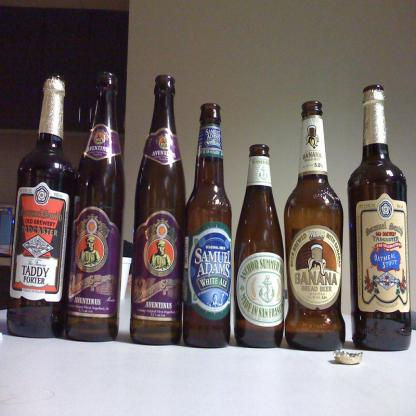drinking: (6, 74, 76, 339), (347, 86, 412, 352), (65, 71, 125, 342), (284, 100, 345, 352), (130, 75, 186, 346), (182, 103, 232, 348), (234, 144, 284, 348)
